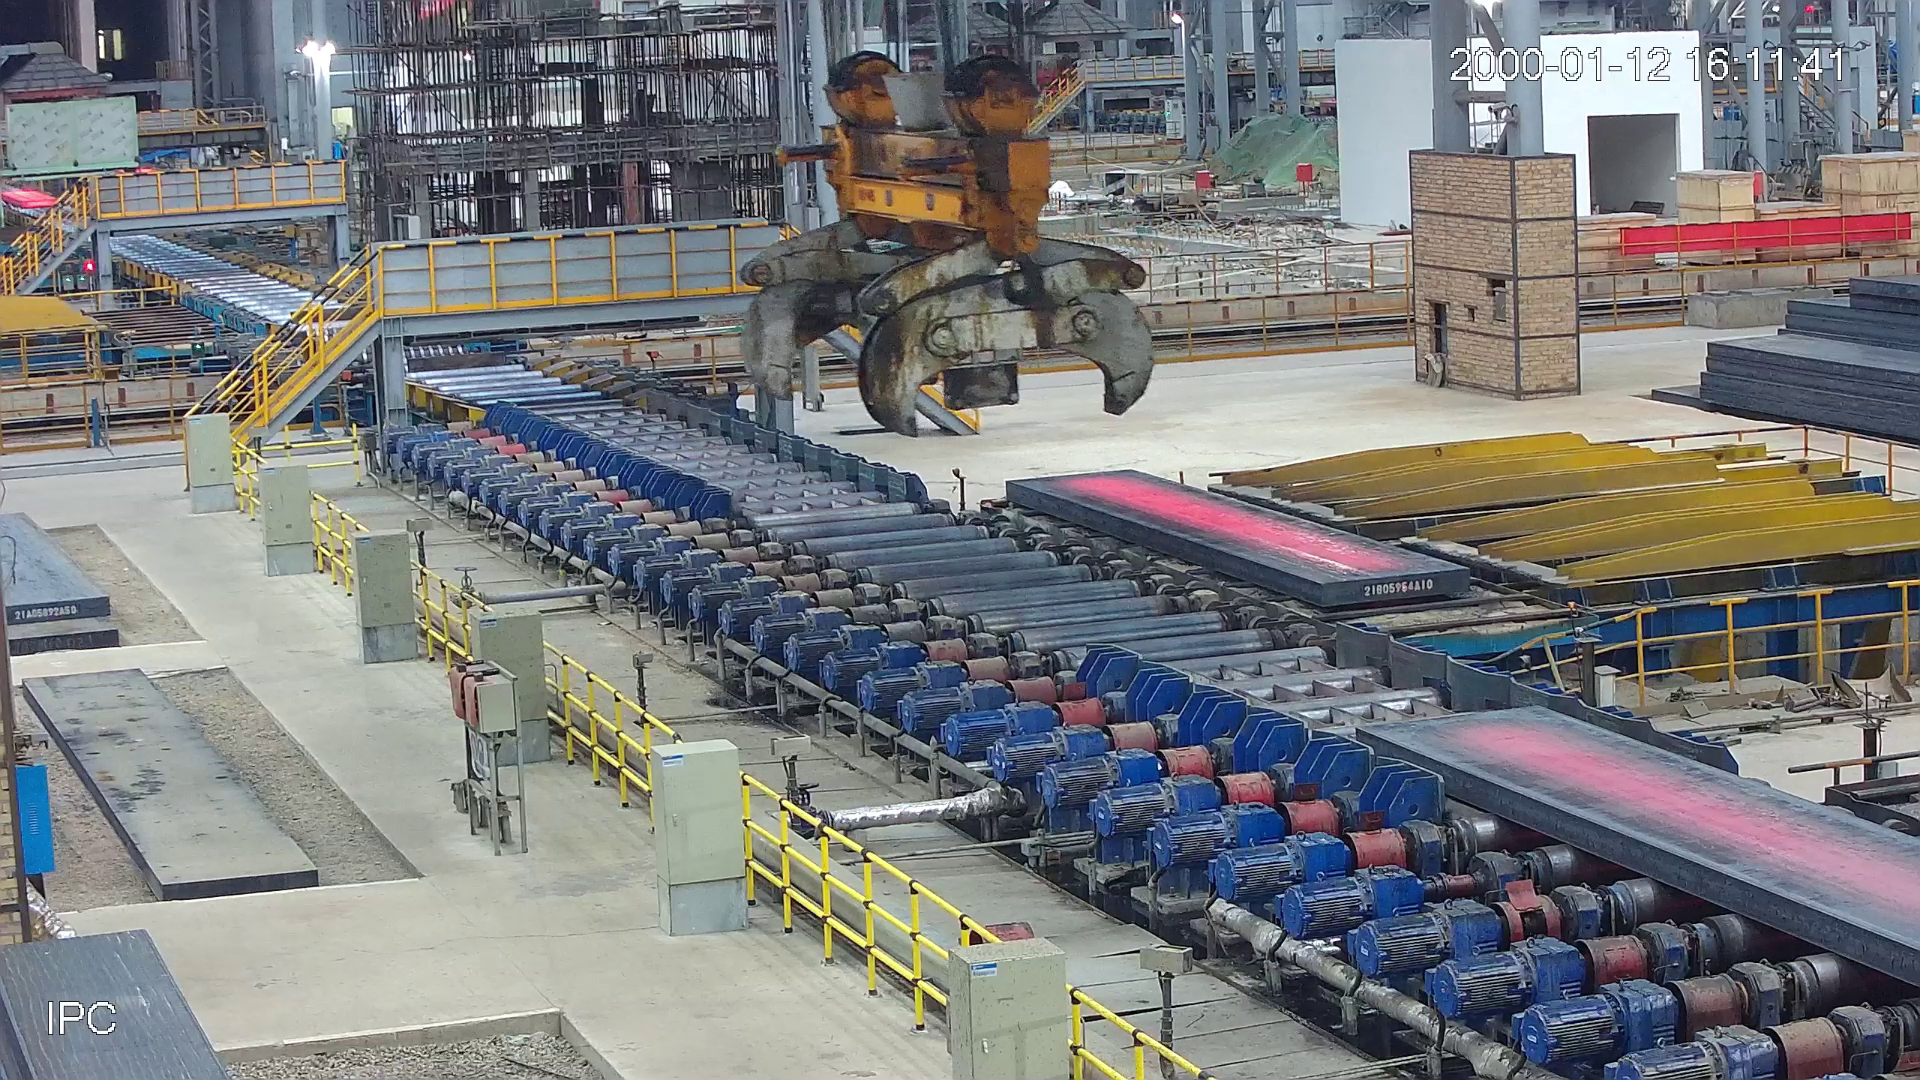crane: (748, 44, 1156, 433)
slab: (1361, 707, 1920, 977), (1005, 472, 1469, 605)
